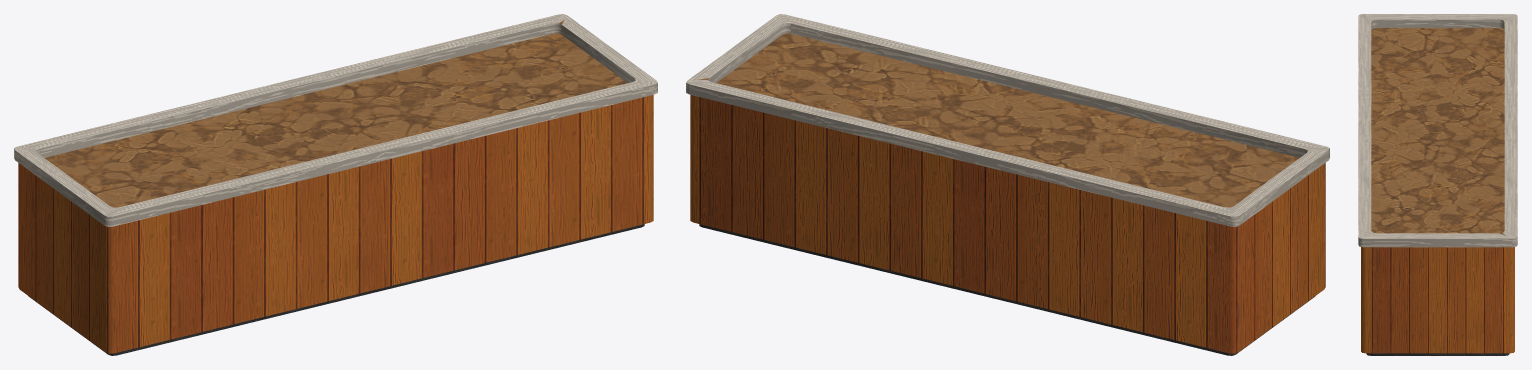
Rendered from StreetPlanter05_3.FBX.
The picture shows the model from 3 angles, left to right: view 1: azimuth 30°, elevation 25°; view 2: azimuth 150°, elevation 25°; view 3: azimuth 270°, elevation 25°; orthographic projection. The views are drawn at different scales.
Visible parts, largest first — view 1: StreetPlanter05_3; view 2: StreetPlanter05_3; view 3: StreetPlanter05_3.
Boxes of the visible parts, x1,y1,x2,y2 form: StreetPlanter05_3: (14, 14, 657, 355); StreetPlanter05_3: (686, 14, 1329, 355); StreetPlanter05_3: (1358, 14, 1517, 355).
Size of what is drawn, in the model's own units: 2.4 by 0.6 by 0.72.
